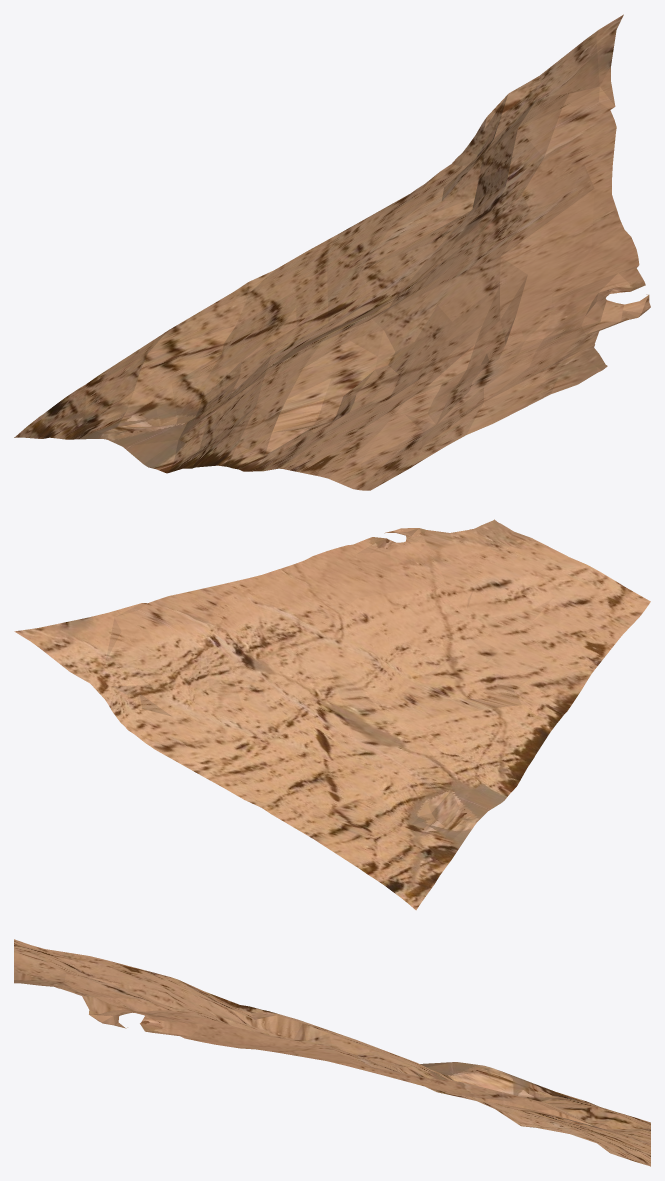
The picture shows the model from 3 angles, top to bottom: view 1: azimuth 30°, elevation 25°; view 2: azimuth 150°, elevation 25°; view 3: azimuth 270°, elevation 25°; orthographic projection. The views are drawn at different scales.
Size of the model in its own units: 1.03 by 0.4442 by 1.04.
Materials: 2 (2 with a texture image).
